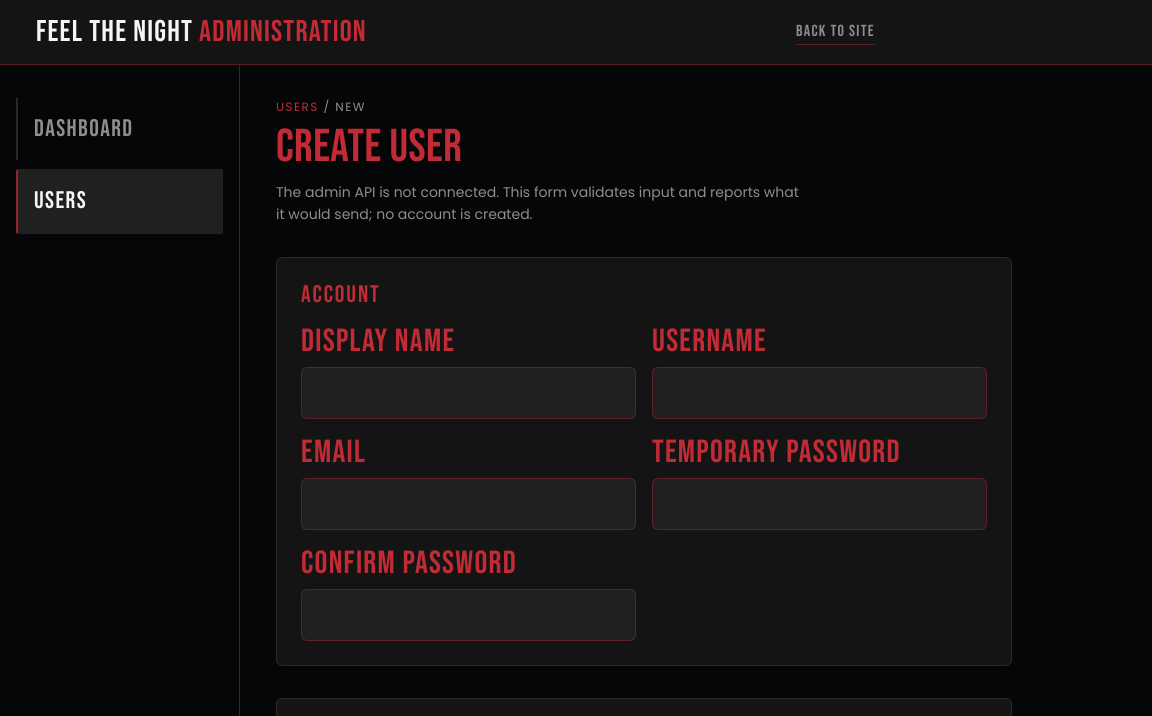
create user › reports a password mismatch
Step 1. Type "Demo Person" into the field labelled "Display name" → {"x": 468, "y": 393}, box x1=301 y1=367 x2=636 y2=419
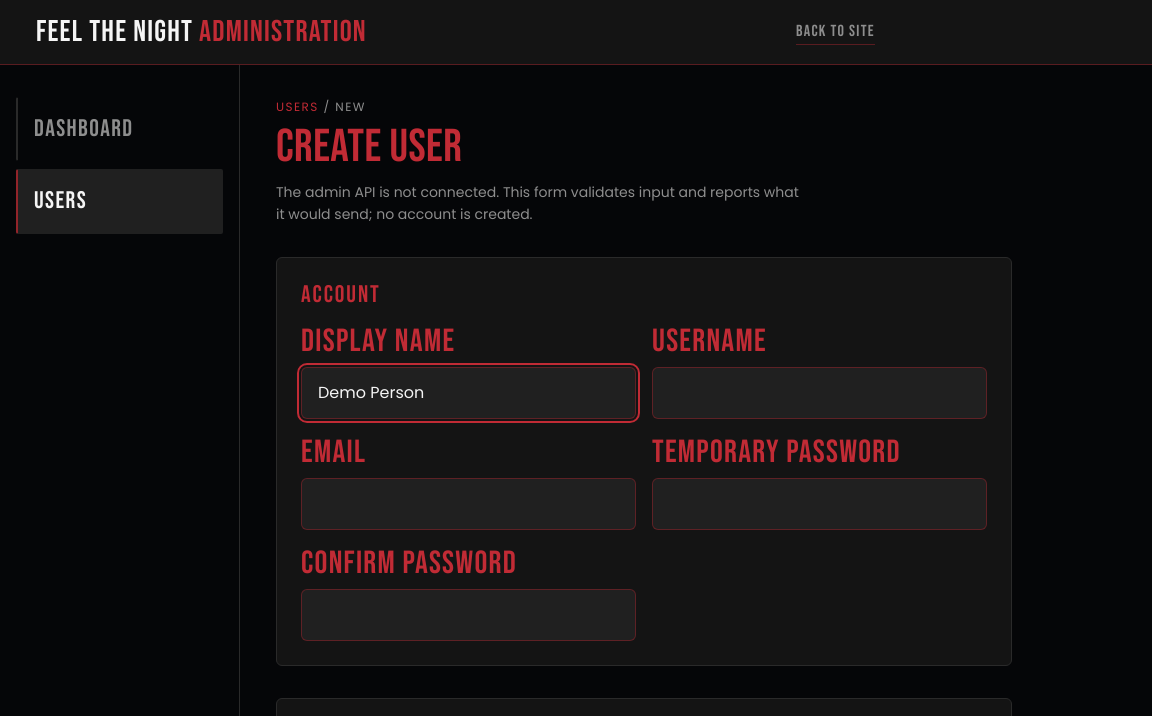
Step 2. Type "demoperson" into the field labelled "Username" → {"x": 820, "y": 393}, box x1=652 y1=367 x2=987 y2=419
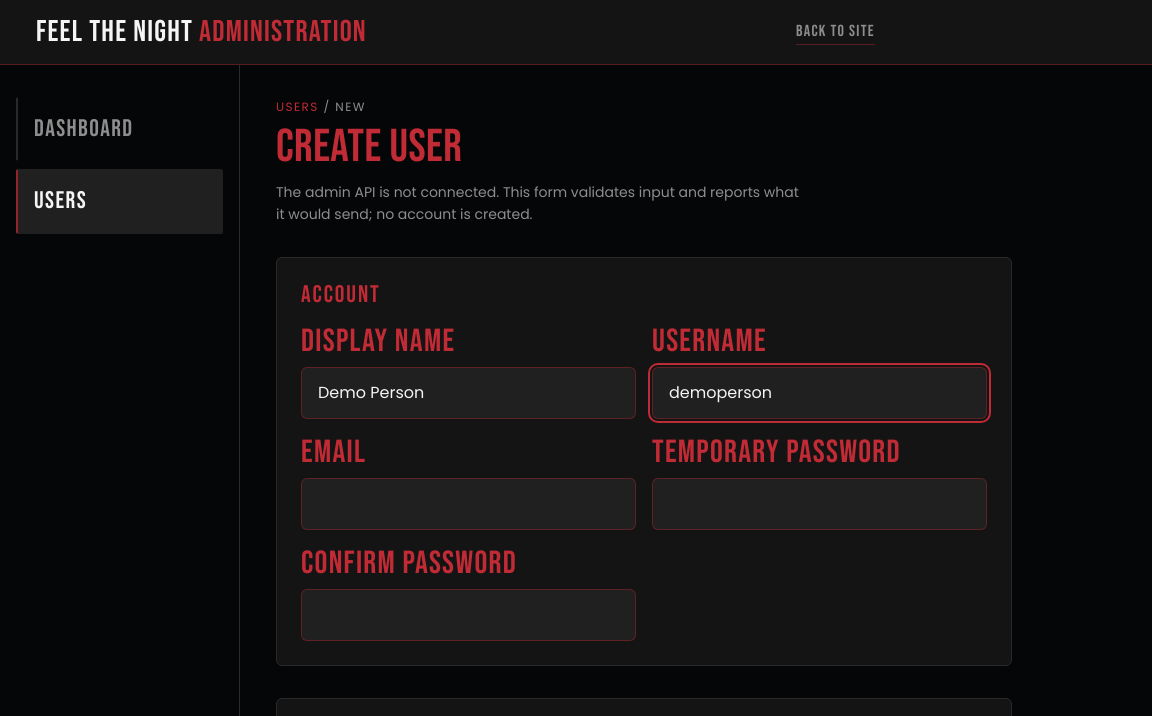
Step 3. Type "demo@example.invalid" into the field labelled "Email" → {"x": 468, "y": 504}, box x1=301 y1=478 x2=636 y2=530
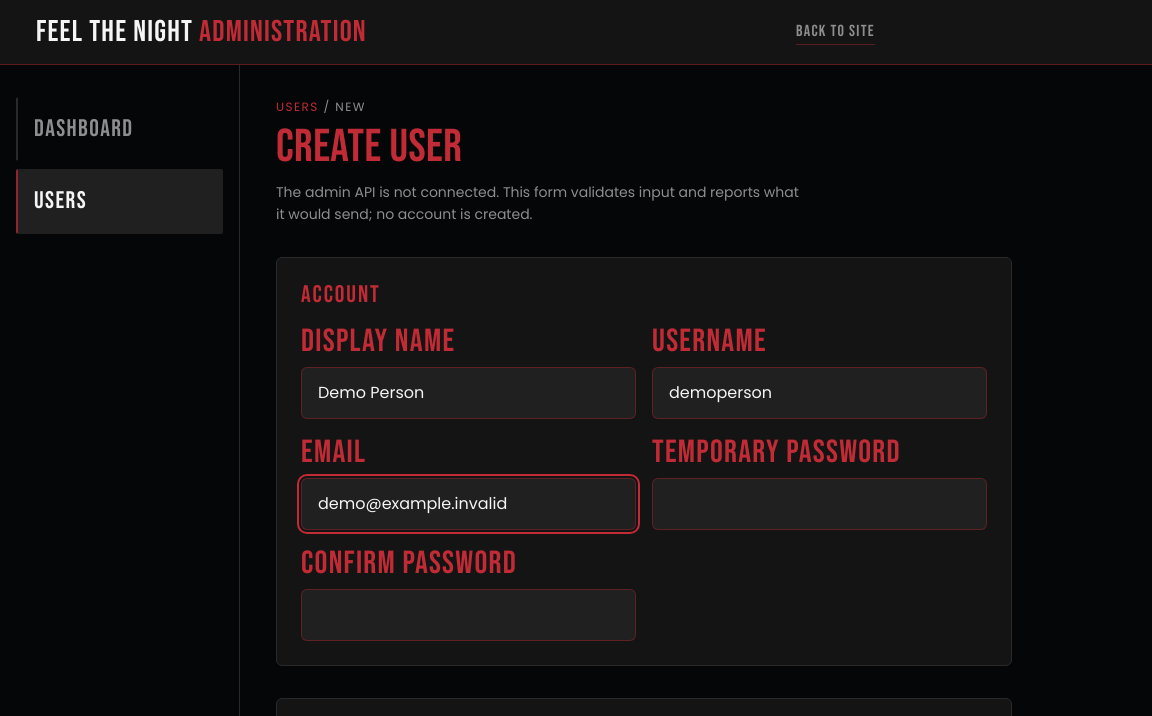
Step 4. Type "nightfall1" into the password field labelled "Temporary password" → {"x": 820, "y": 504}, box x1=652 y1=478 x2=987 y2=530
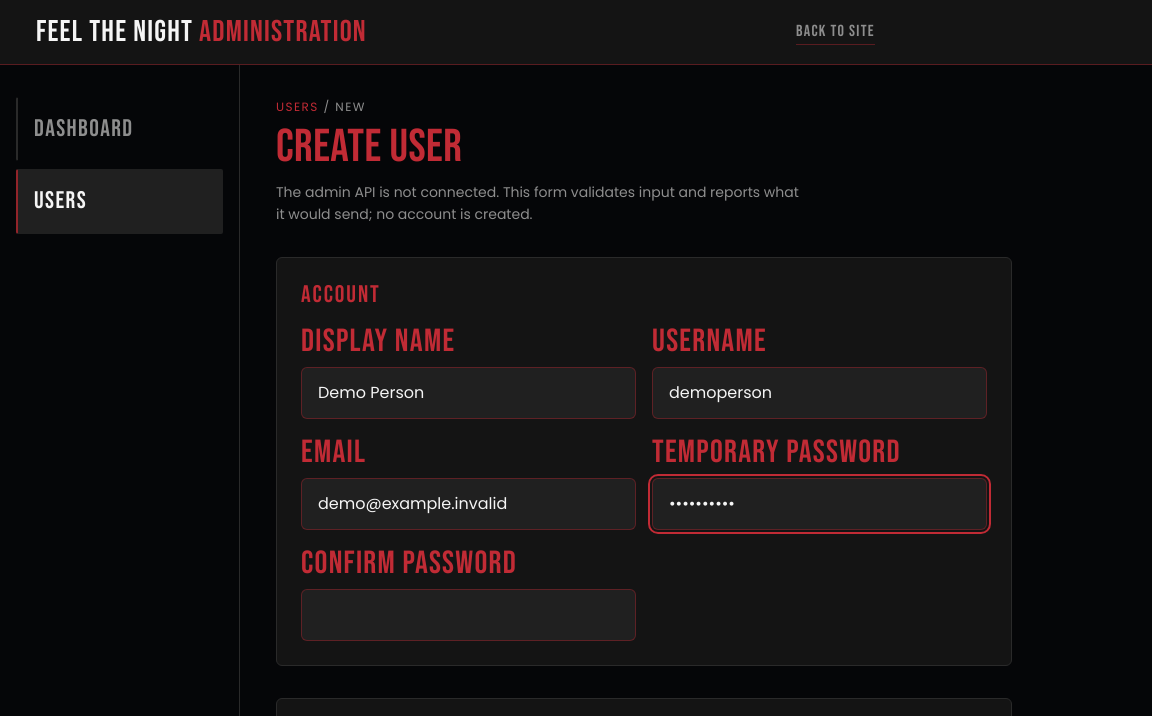
Step 5. Type "nightfall2" into the password field labelled "Confirm password" → {"x": 468, "y": 615}, box x1=301 y1=589 x2=636 y2=641
(page scrolled)
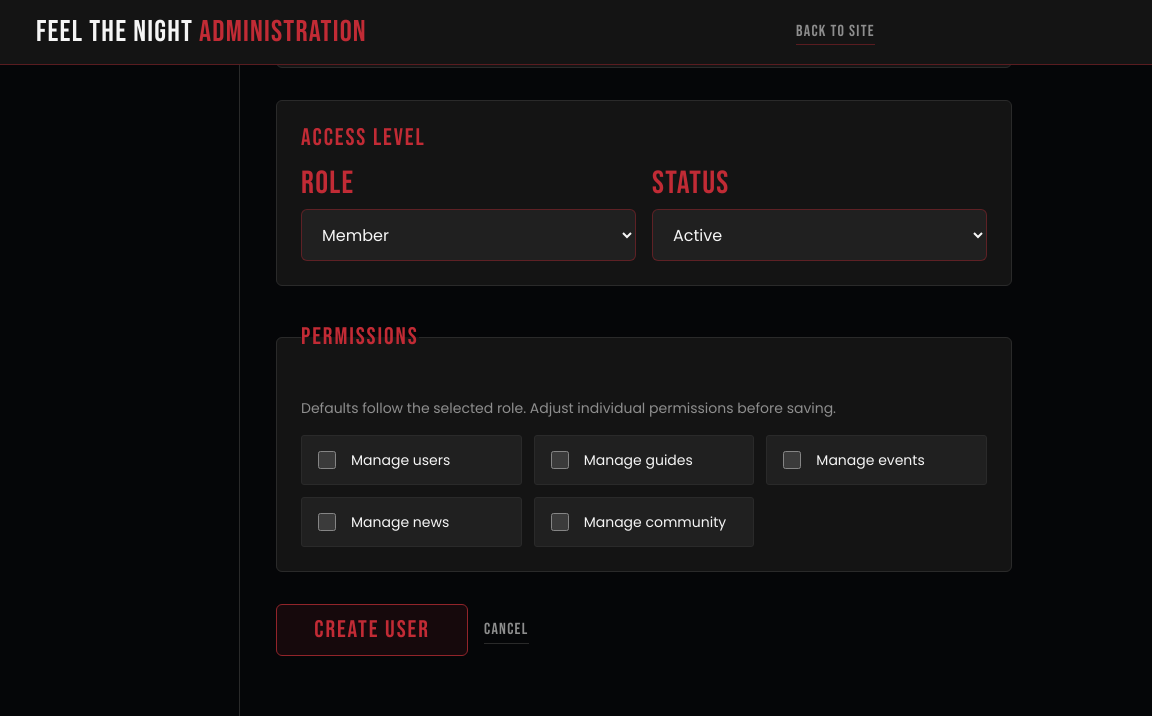
Step 6. Click the button "Create user" → {"x": 372, "y": 630}, box x1=276 y1=604 x2=468 y2=656
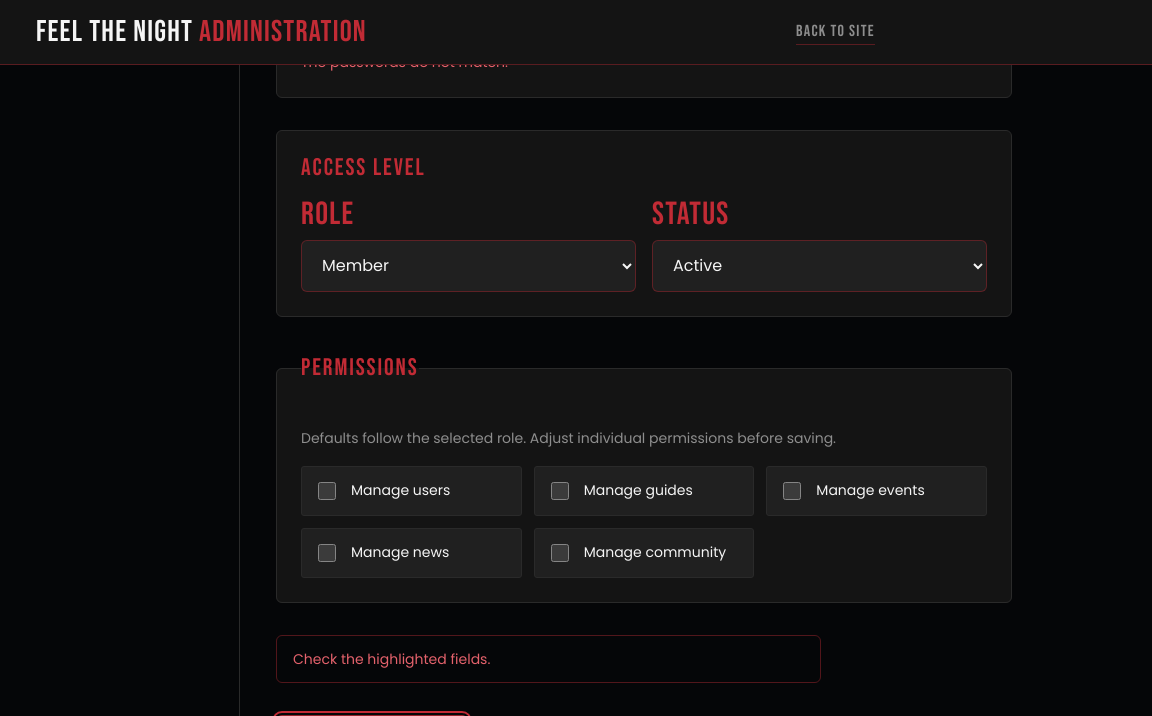
Result: the text "The passwords do not match." is shown at x1=301 y1=52 x2=508 y2=72
